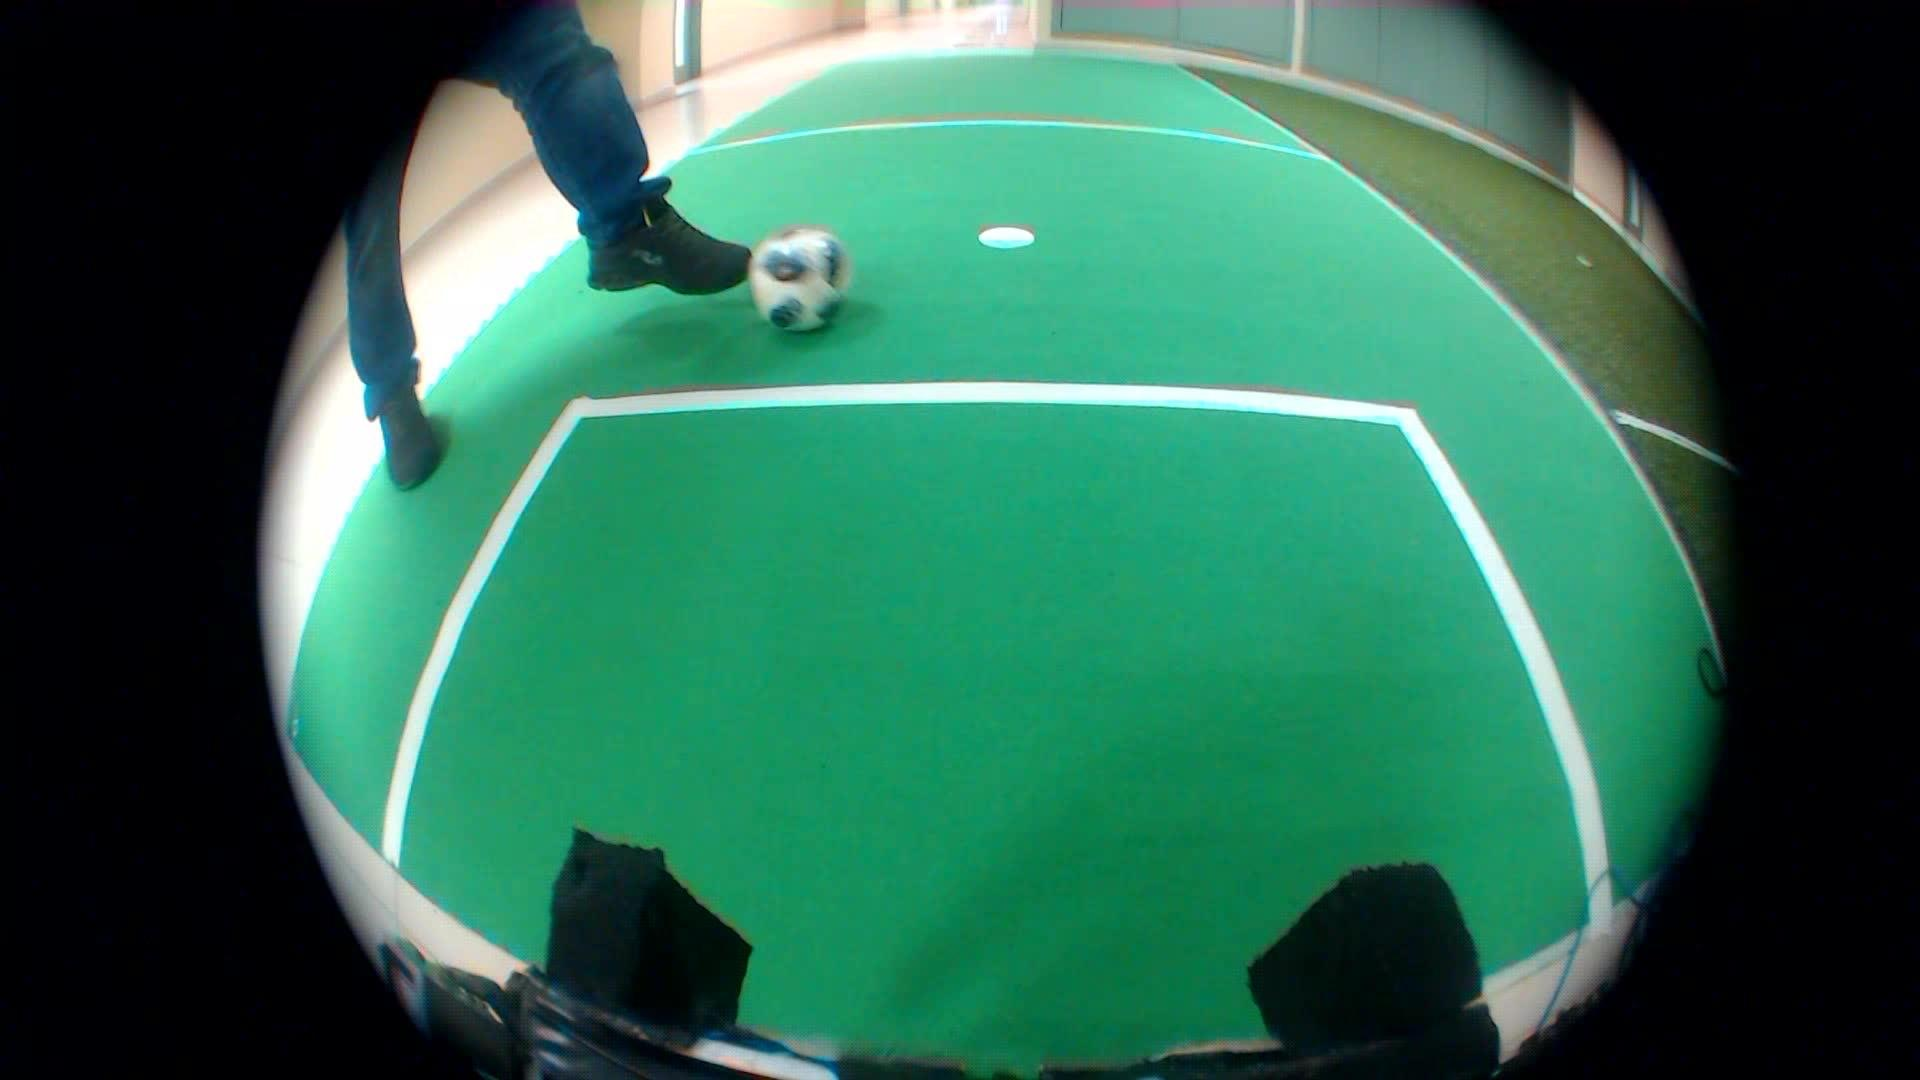ball: (732, 219, 862, 340)
